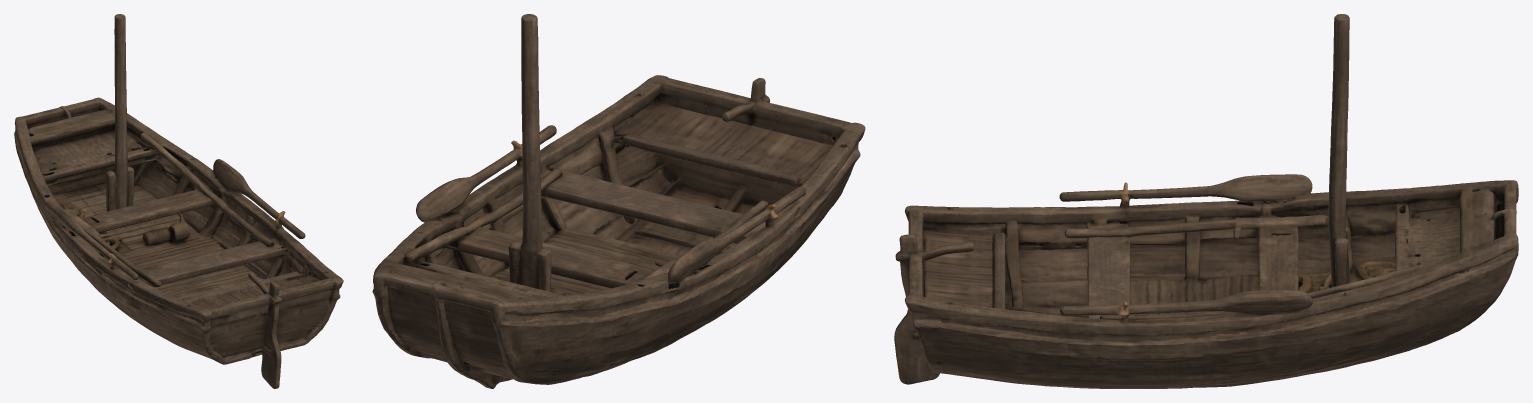
The model's file is skiff.glb.
3 views of the same model, side by side, from view 1: azimuth 30°, elevation 25°; view 2: azimuth 150°, elevation 25°; view 3: azimuth 270°, elevation 25° (orthographic). The views are drawn at different scales.
Parts seen in each view (by area): view 1: world; view 2: world; view 3: world.
Boxes of the visible parts, x1,y1,x2,y2 form: world: [14, 14, 343, 388]; world: [372, 14, 865, 388]; world: [894, 14, 1518, 388].
Size of the model in its own units: 4.5 by 6.26 by 9.68.
Materials: 1 (1 with a texture image).
